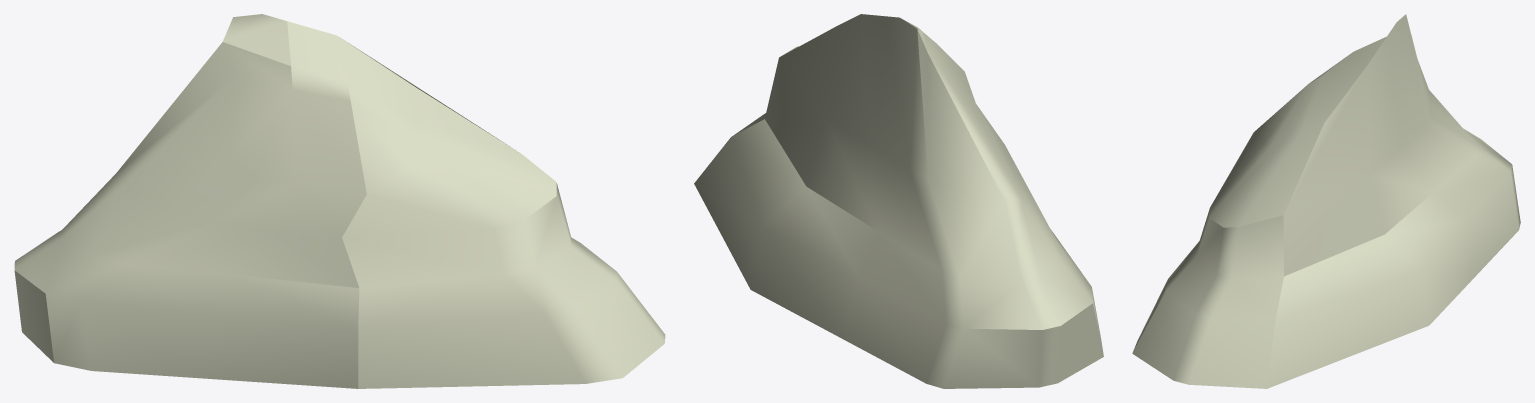
Rendered from Rochet_5.fbx.
The picture shows the model from 3 angles, left to right: view 1: azimuth 30°, elevation 25°; view 2: azimuth 150°, elevation 25°; view 3: azimuth 270°, elevation 25°; orthographic projection. The views are drawn at different scales.
Parts seen in each view (by area): view 1: pCube59; view 2: pCube59; view 3: pCube59.
Boxes of the visible parts, x1,y1,x2,y2 form: pCube59: [14, 14, 665, 388]; pCube59: [694, 14, 1103, 388]; pCube59: [1132, 14, 1520, 388].
Bounding box in the file's own units: 661 × 378 × 534.
